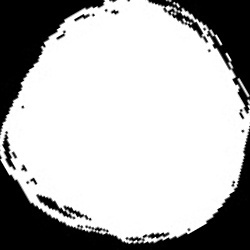spot: (0, 1, 249, 244)
